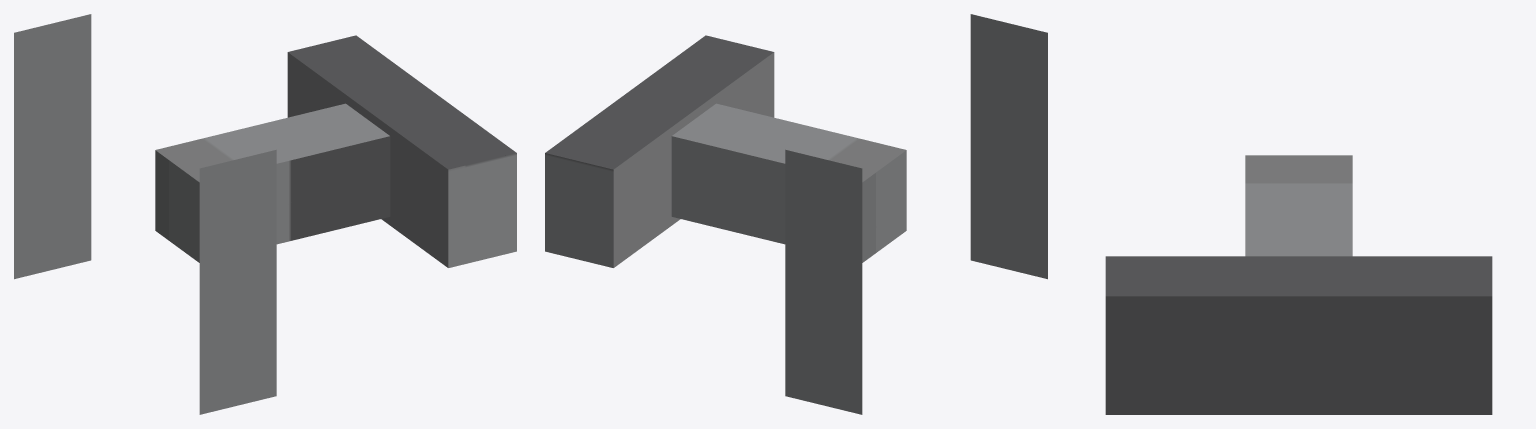
3 renders of one model, left to right at view 1: azimuth 30°, elevation 25°; view 2: azimuth 150°, elevation 25°; view 3: azimuth 270°, elevation 25°, orthographic. The views are drawn at different scales.
Bounding box in the file's own units: 0.077 × 0.055 × 0.075.
